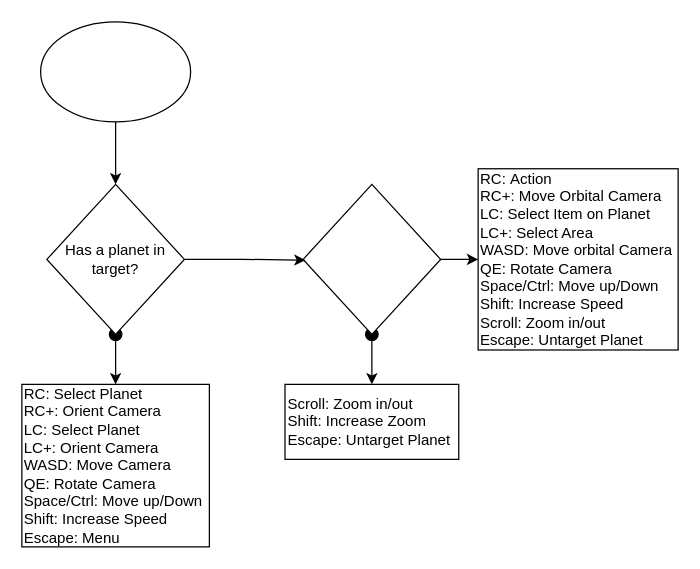
The diagram is 700 pixels wide and 569 high, and some of its shapes have lost their labels. The centre of each missing label's shape, as x and y in pixels:
"CameraPlanet" belongs at point 115,71.
"Is in the orbit of the Planet?" belongs at point 371,258.
